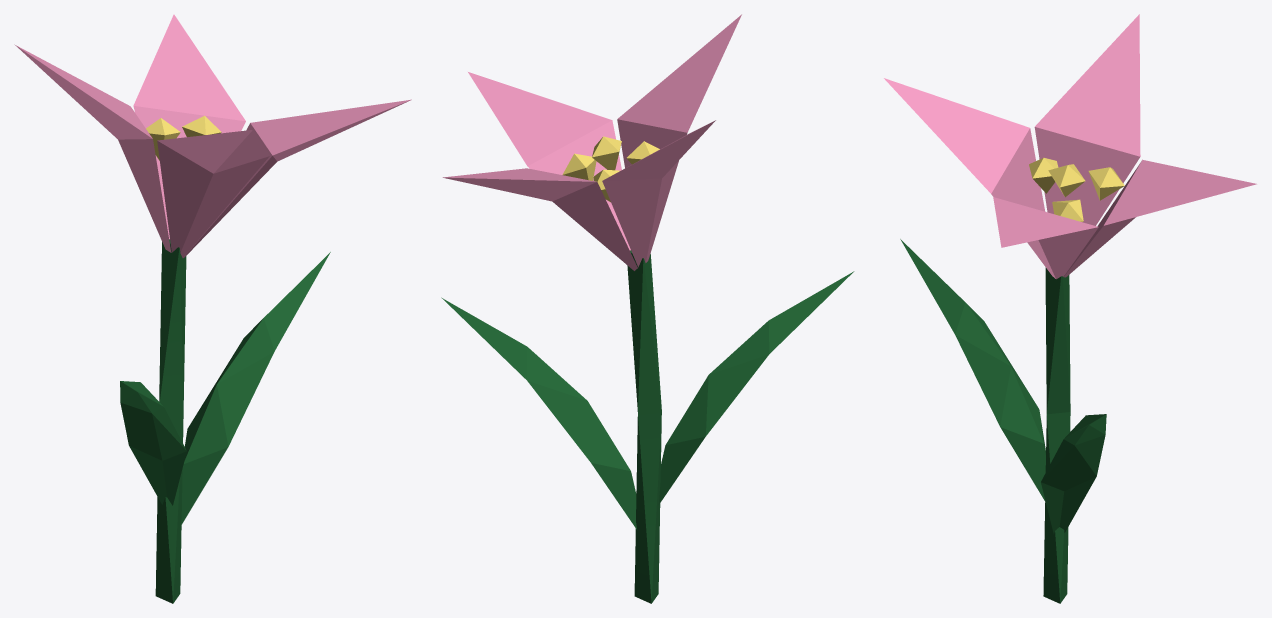
File: Hilly_Prop_Flower_Tulip.obj
3 views of the same model, side by side, from view 1: azimuth 30°, elevation 25°; view 2: azimuth 150°, elevation 25°; view 3: azimuth 270°, elevation 25° (orthographic). The views are drawn at different scales.
Visible parts, largest first — view 1: object7, object4, object10, object8, object6, object3, object11, object2; view 2: object8, object11, object3, object4, object7, object6, object10, object9, object5; view 3: object6, object7, object3, object8, object10, object4, object11, object2, object9, object1, object5.
Part boxes in pixels (left/top/right/bottom): object7: left=157, top=130, right=269, bottom=257; object4: left=181, top=252, right=330, bottom=525; object10: left=133, top=14, right=245, bottom=239; object8: left=155, top=239, right=186, bottom=603; object6: left=14, top=44, right=171, bottom=252; object3: left=120, top=381, right=186, bottom=505; object11: left=183, top=99, right=411, bottom=258; object2: left=146, top=118, right=180, bottom=160; object8: left=627, top=250, right=661, bottom=603; object11: left=468, top=72, right=630, bottom=250; object3: left=658, top=271, right=854, bottom=504; object4: left=441, top=297, right=636, bottom=529; object7: left=617, top=14, right=741, bottom=168; object6: left=602, top=120, right=715, bottom=267; object10: left=442, top=168, right=637, bottom=270; object9: left=592, top=136, right=621, bottom=170; object5: left=562, top=153, right=596, bottom=180; object6: left=1034, top=14, right=1140, bottom=225; object7: left=884, top=78, right=1045, bottom=211; object3: left=900, top=239, right=1045, bottom=501; object8: left=1043, top=267, right=1070, bottom=603; object10: left=1064, top=159, right=1256, bottom=277; object4: left=1041, top=414, right=1106, bottom=533; object11: left=993, top=197, right=1098, bottom=279; object2: left=1088, top=167, right=1124, bottom=200; object9: left=1048, top=164, right=1085, bottom=197; object1: left=1029, top=157, right=1058, bottom=193; object5: left=1052, top=199, right=1083, bottom=221.
Size of the model in its own units: 0.3452 by 0.5254 by 0.3357.
